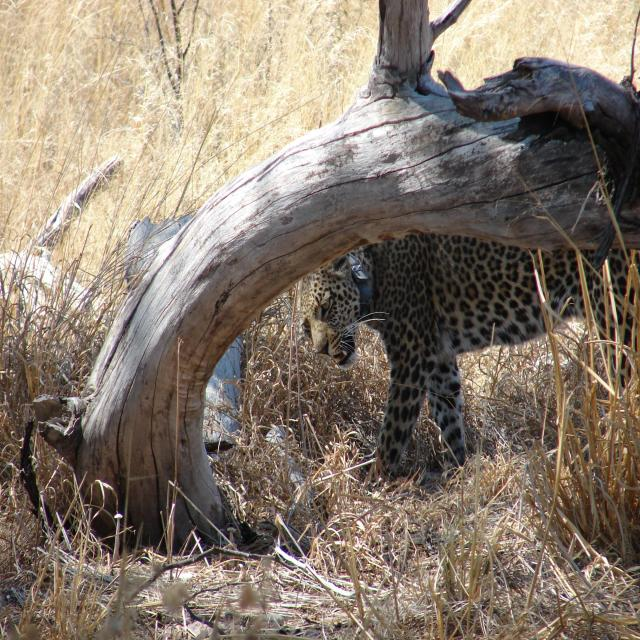Leopard: (301, 215, 640, 480)
